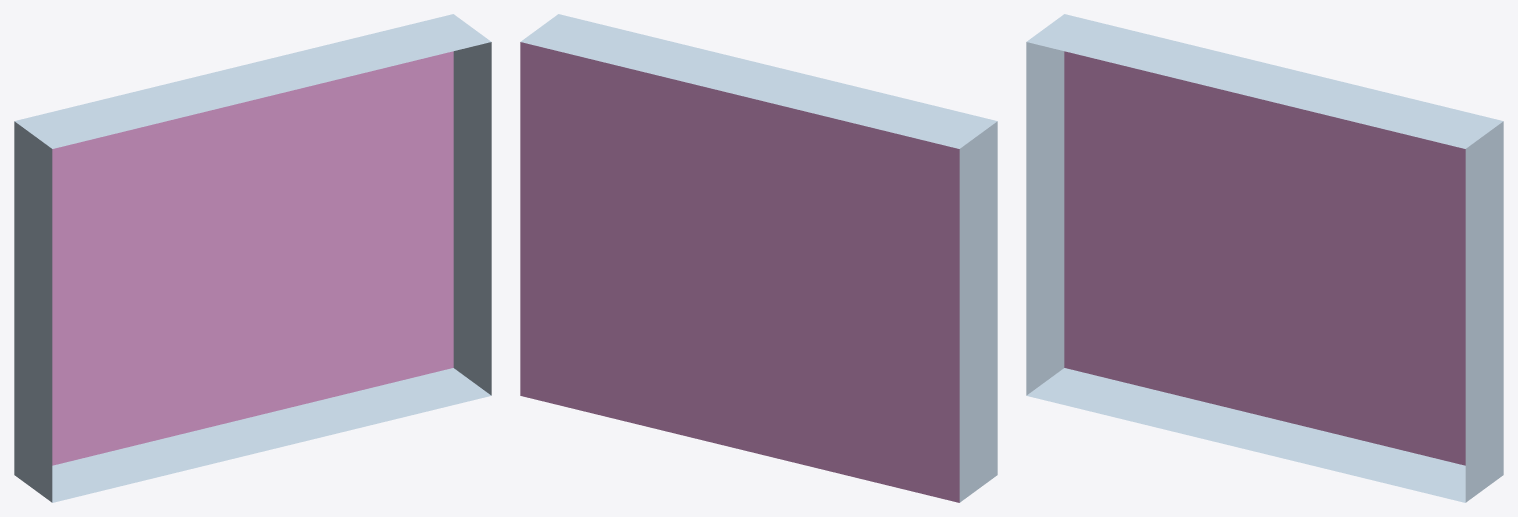
3 renders of one model, left to right at view 1: azimuth 30°, elevation 25°; view 2: azimuth 150°, elevation 25°; view 3: azimuth 330°, elevation 25°, orthographic.
Visible parts, largest first — view 1: Object51; view 2: Object51; view 3: Object51.
Boxes of the visible parts, <box> form: Object51: <box>14,14,491,502</box>; Object51: <box>520,14,997,502</box>; Object51: <box>1026,14,1503,502</box>.
Bounding box in the file's own units: 51365 × 39548 × 7737.
